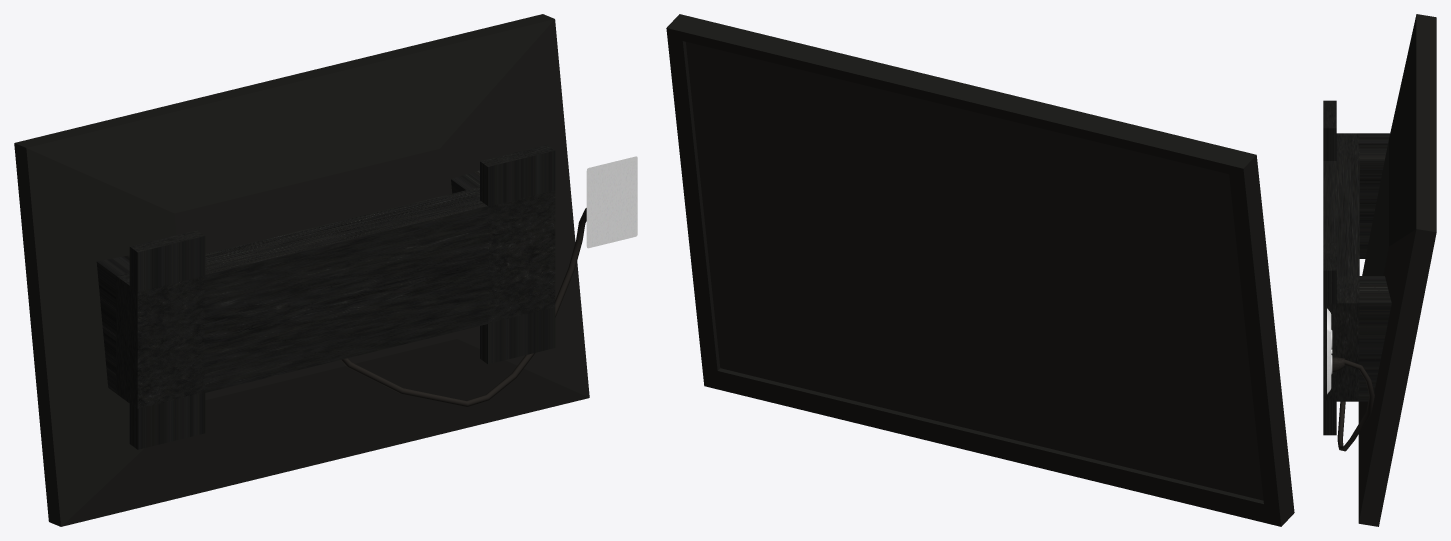
The model's file is TV Flatscreen Wall.fbx.
The picture shows the model from 3 angles, left to right: view 1: azimuth 30°, elevation 25°; view 2: azimuth 150°, elevation 25°; view 3: azimuth 270°, elevation 25°; orthographic projection. The views are drawn at different scales.
Parts seen in each view (by area): view 1: Plug White.001; view 2: Plug White.001; view 3: Plug White.001.
Boxes of the visible parts, x1=… form: Plug White.001: x1=14, y1=14, x2=637, y2=526; Plug White.001: x1=666, y1=14, x2=1294, y2=526; Plug White.001: x1=1323, y1=14, x2=1436, y2=526.
Bounding box in the file's own units: 116 × 70.86 × 24.45.
